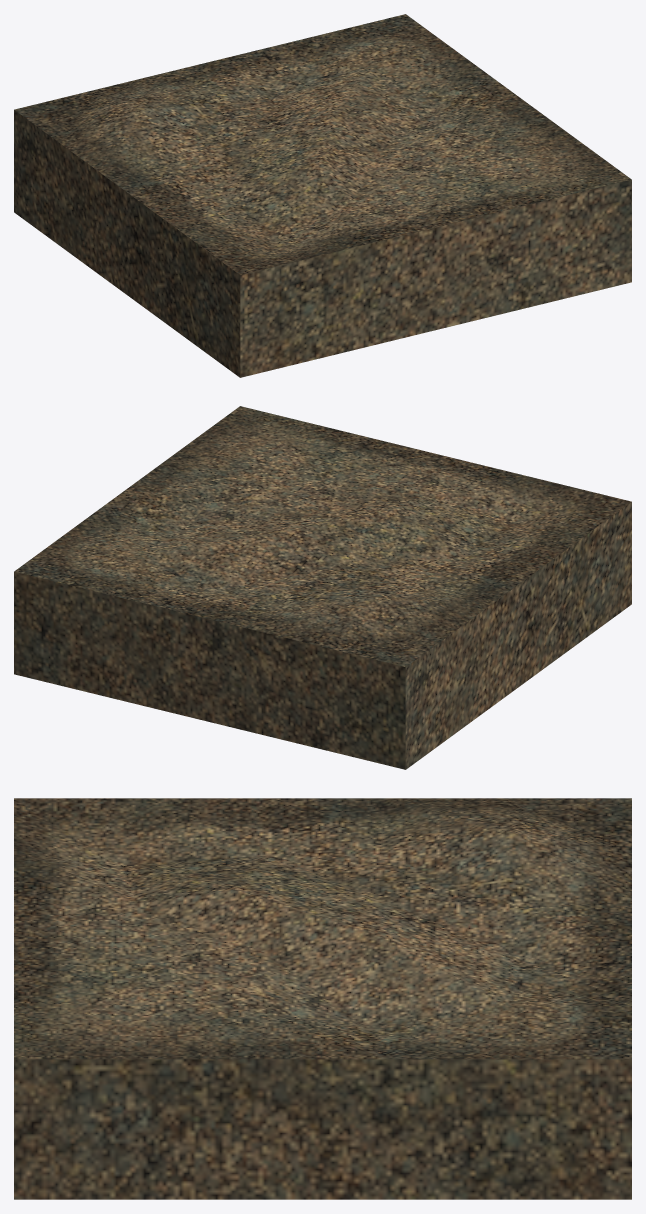
The model's file is WoodEarthFloor.glb.
The picture shows the model from 3 angles, top to bottom: view 1: azimuth 30°, elevation 25°; view 2: azimuth 150°, elevation 25°; view 3: azimuth 270°, elevation 25°; orthographic projection. The views are drawn at different scales.
Parts seen in each view (by area): view 1: WoodEarthFloor; view 2: WoodEarthFloor; view 3: WoodEarthFloor.
Part boxes in pixels (bbox=[...]): WoodEarthFloor: bbox=[14, 14, 631, 377]; WoodEarthFloor: bbox=[14, 406, 631, 769]; WoodEarthFloor: bbox=[14, 798, 631, 1199].
Bounding box in the file's own units: 2 × 0.5672 × 2.
Materials: 1 (1 with a texture image).
